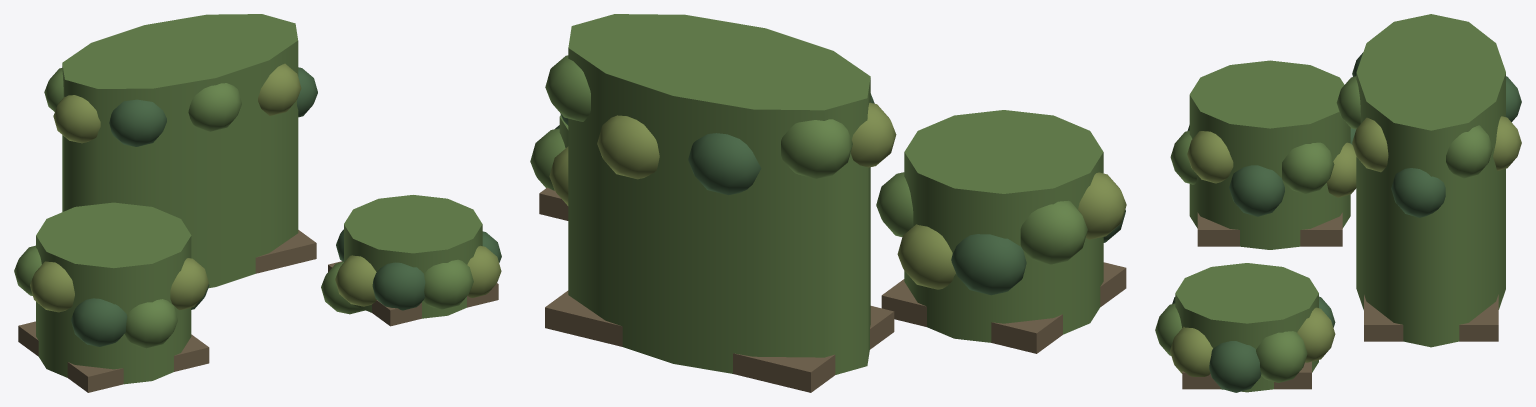
3 views of the same model, side by side, from view 1: azimuth 30°, elevation 25°; view 2: azimuth 150°, elevation 25°; view 3: azimuth 270°, elevation 25° (orthographic). The views are drawn at different scales.
Visible parts, largest first — view 1: climb-hedge-1-0, 생울타리 02, climb-hedge-1-1, climb-hedge-1-2; view 2: climb-hedge-1-0, 생울타리 02, climb-hedge-1-1; view 3: climb-hedge-1-0, 생울타리 02, climb-hedge-1-1, climb-hedge-1-2.
Part boxes in pixels (bbox=[...]): climb-hedge-1-0: bbox=[62, 14, 298, 288]; 생울타리 02: bbox=[14, 63, 501, 392]; climb-hedge-1-1: bbox=[36, 202, 191, 384]; climb-hedge-1-2: bbox=[344, 195, 482, 318]; climb-hedge-1-0: bbox=[568, 14, 870, 374]; 생울타리 02: bbox=[530, 55, 1126, 392]; climb-hedge-1-1: bbox=[904, 110, 1103, 342]; climb-hedge-1-0: bbox=[1356, 14, 1505, 347]; 생울타리 02: bbox=[1155, 52, 1521, 392]; climb-hedge-1-1: bbox=[1189, 60, 1350, 249]; climb-hedge-1-2: bbox=[1175, 263, 1318, 392].
Bounding box in the file's own units: 4.73 × 2.29 × 3.19.
